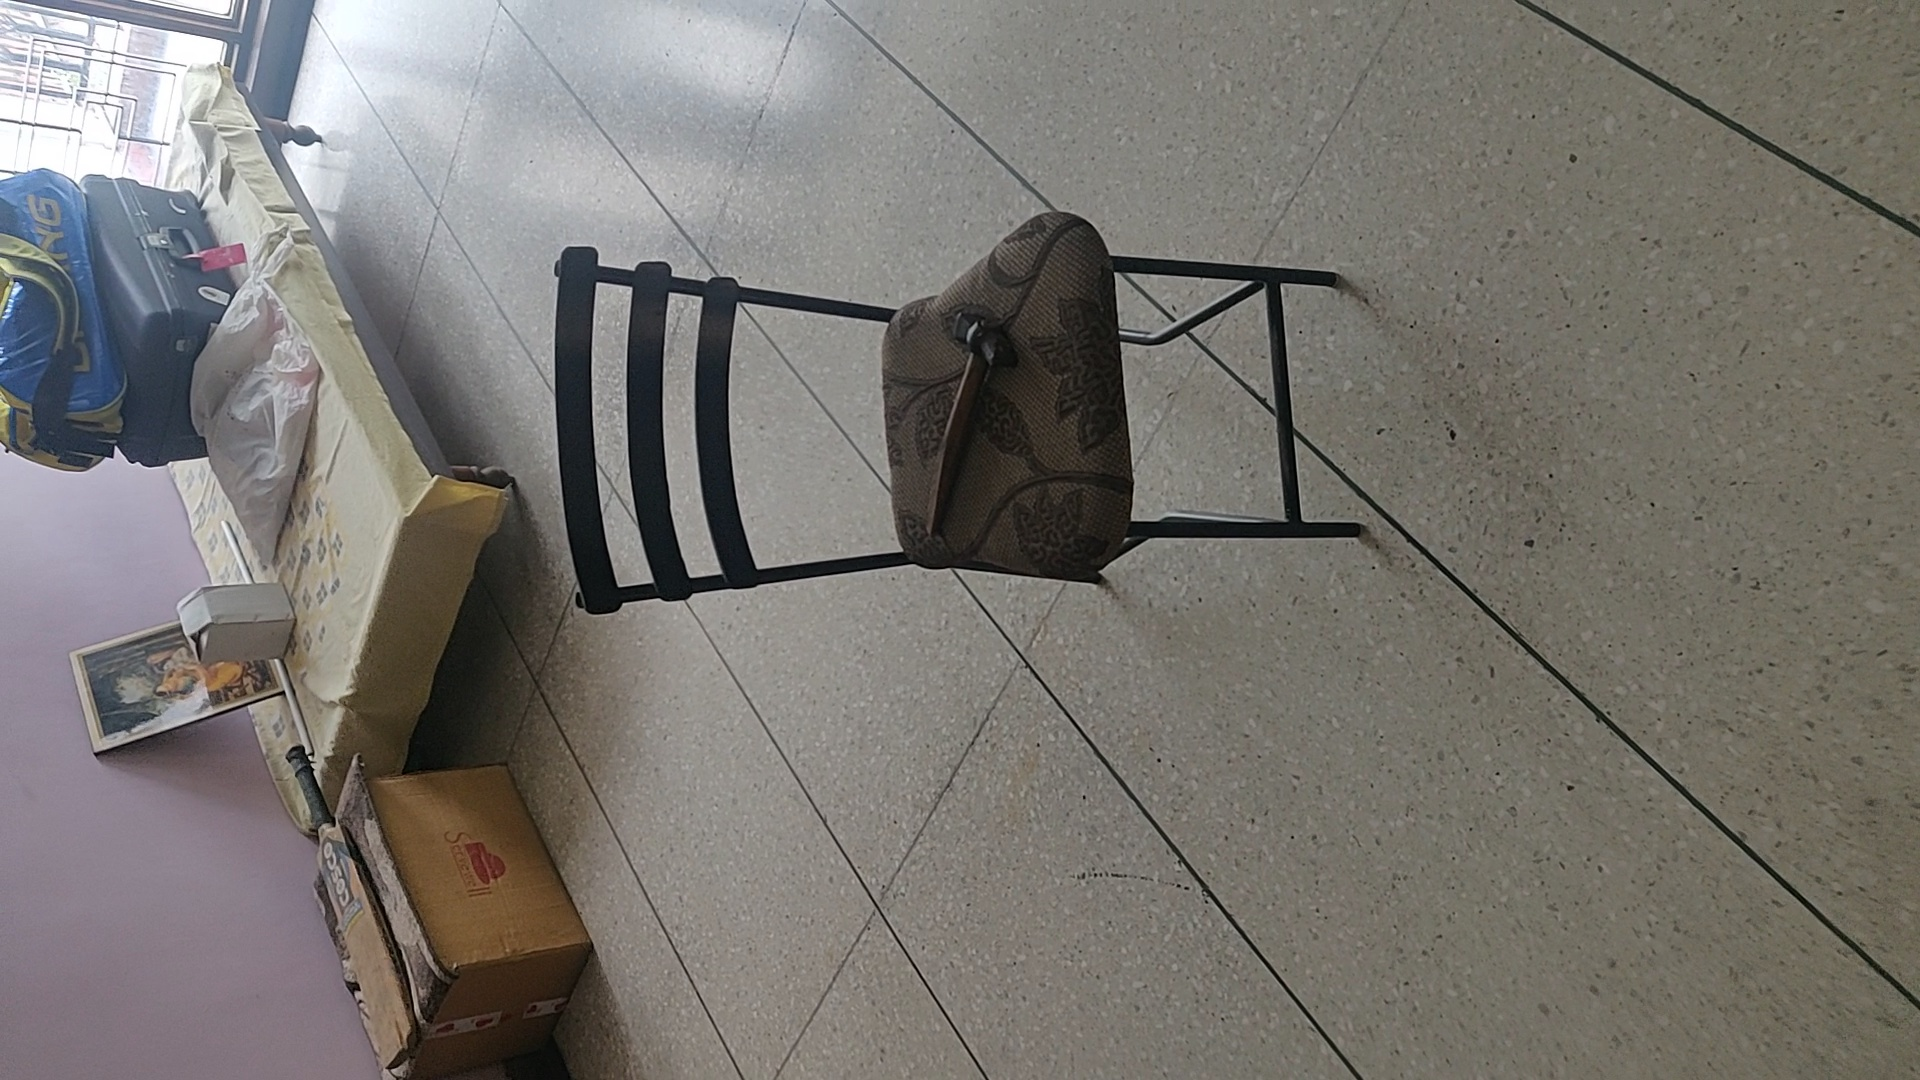hammer: (913, 309, 1022, 537)
